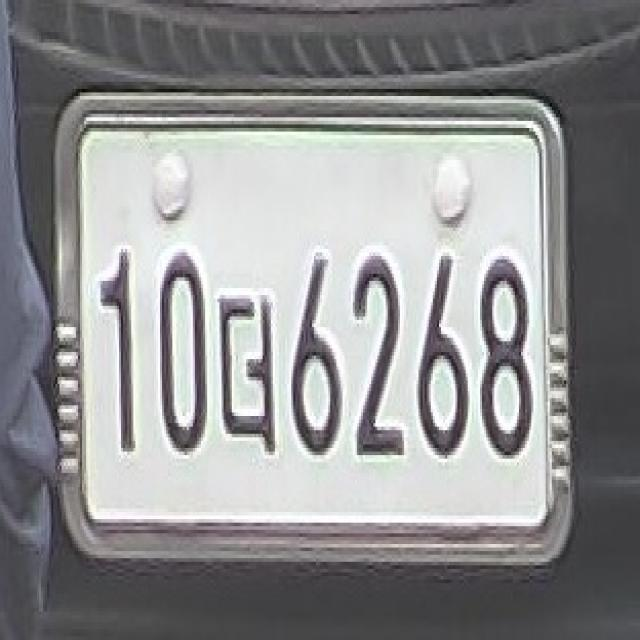0: (153, 242, 210, 470)
1: (95, 232, 146, 493)
2: (350, 252, 413, 478)
6: (286, 238, 346, 474), (416, 252, 472, 478)
8: (477, 246, 540, 490)
deo: (215, 283, 278, 482)
license_plate: (52, 102, 578, 567)
